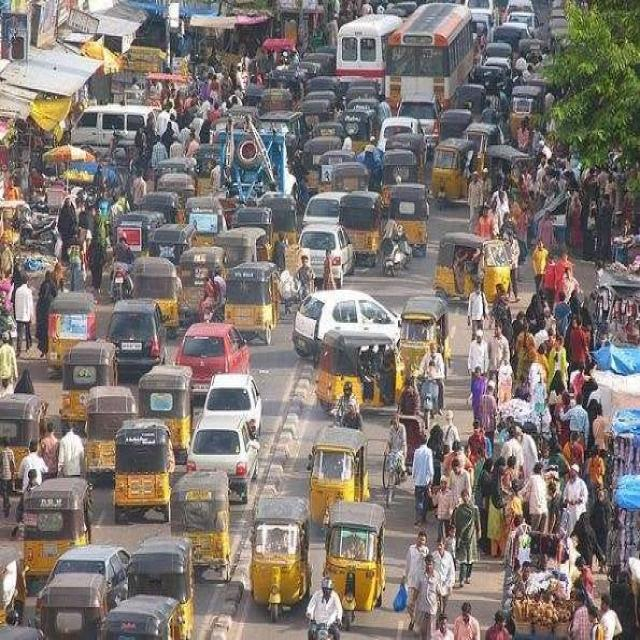Vehicles: (298, 285, 419, 400), (382, 4, 488, 126), (317, 313, 414, 442), (240, 488, 314, 635), (298, 414, 374, 557), (436, 230, 534, 330), (156, 463, 238, 582), (65, 92, 171, 183), (387, 289, 473, 400), (327, 482, 387, 628), (98, 287, 186, 385), (18, 468, 99, 568), (115, 250, 204, 341), (104, 409, 178, 514), (46, 280, 129, 368), (34, 561, 125, 640), (123, 532, 186, 640), (62, 328, 130, 428), (334, 2, 413, 88), (219, 264, 288, 350), (198, 372, 266, 446), (181, 246, 236, 332), (422, 129, 485, 202), (0, 386, 45, 488), (338, 180, 389, 269), (151, 365, 197, 449), (388, 176, 430, 262), (304, 124, 354, 196), (495, 88, 542, 138), (302, 607, 338, 640)
